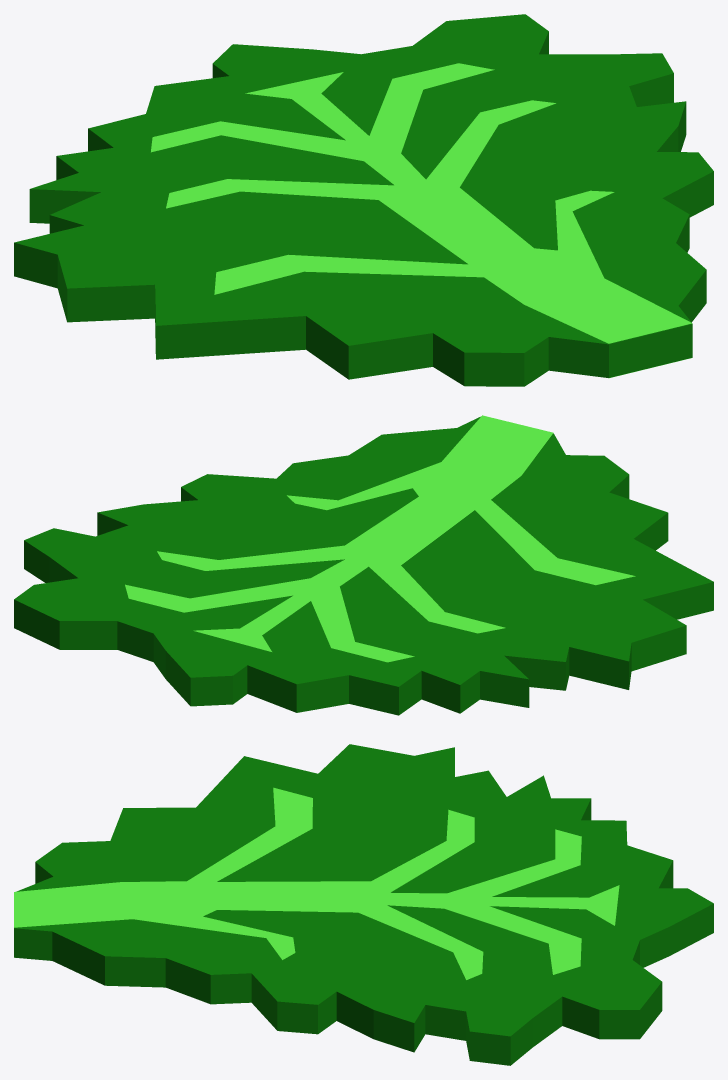
3 renders of one model, top to bottom at view 1: azimuth 30°, elevation 25°; view 2: azimuth 150°, elevation 25°; view 3: azimuth 270°, elevation 25°, orthographic. The views are drawn at different scales.
Visible parts, largest first — view 1: Lettuce, Lettuce_stalk; view 2: Lettuce, Lettuce_stalk; view 3: Lettuce, Lettuce_stalk.
Part boxes in pixels (left/top/right/bottom): Lettuce: left=14, top=14, right=713, bottom=386; Lettuce_stalk: left=151, top=63, right=692, bottom=378; Lettuce: left=14, top=416, right=713, bottom=715; Lettuce_stalk: left=125, top=415, right=635, bottom=662; Lettuce: left=14, top=744, right=713, bottom=1065; Lettuce_stalk: left=14, top=787, right=619, bottom=979.
Bounding box in the file's own units: 46.04 × 2.22 × 46.58.
